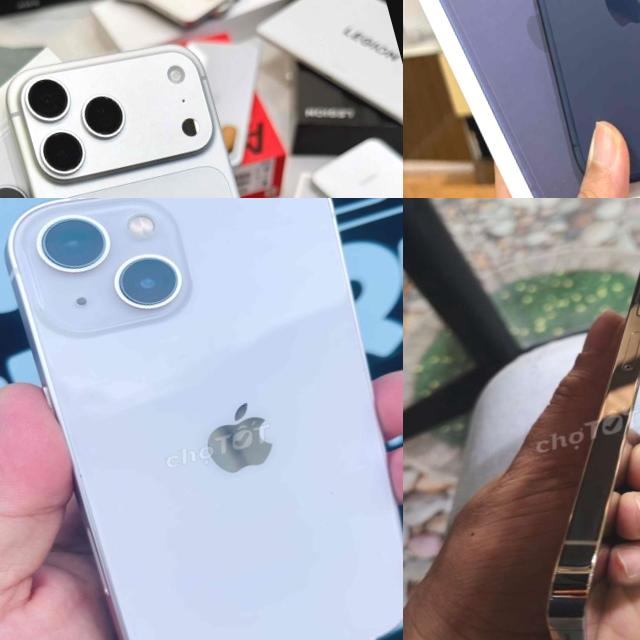gen_12_13: (0, 198, 403, 640), (434, 202, 640, 640)
gen_17: (0, 15, 334, 198), (465, 0, 640, 198)
